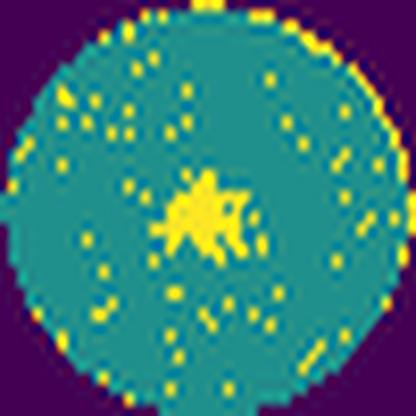Center: (151, 169, 252, 270)
